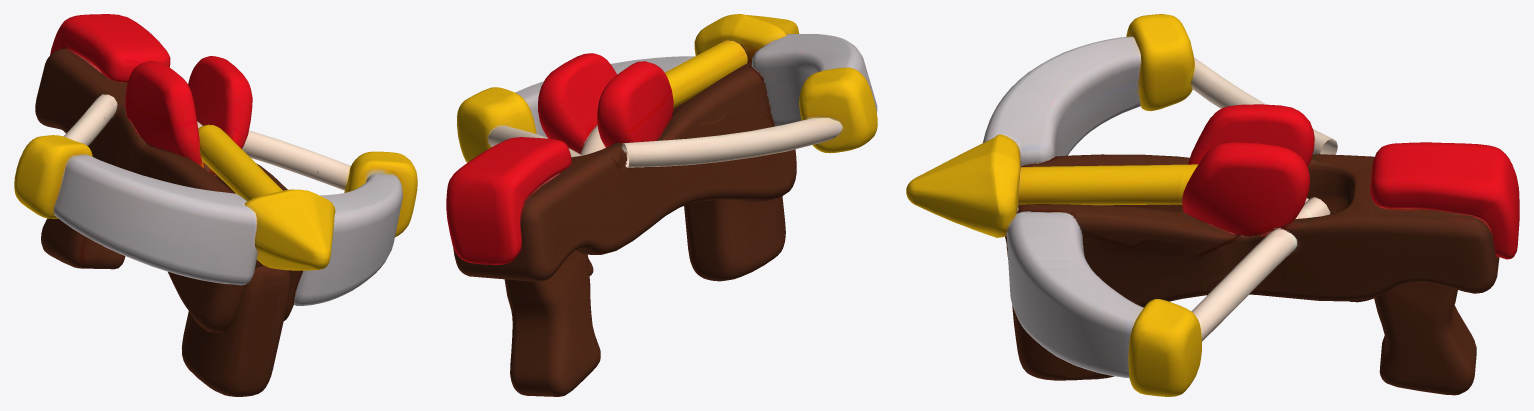
The model's file is weapon_crossbow.glb.
3 renders of one model, left to right at view 1: azimuth 30°, elevation 25°; view 2: azimuth 150°, elevation 25°; view 3: azimuth 270°, elevation 25°, orthographic. The views are drawn at different scales.
Parts seen in each view (by area): view 1: tripo_node_deb8cb60-73da-41bb-817b-d2ce3bfaeb05; view 2: tripo_node_deb8cb60-73da-41bb-817b-d2ce3bfaeb05; view 3: tripo_node_deb8cb60-73da-41bb-817b-d2ce3bfaeb05.
Part boxes in pixels (box(x1,y1,x2,y2)): tripo_node_deb8cb60-73da-41bb-817b-d2ce3bfaeb05: box(14, 14, 417, 396); tripo_node_deb8cb60-73da-41bb-817b-d2ce3bfaeb05: box(446, 14, 877, 396); tripo_node_deb8cb60-73da-41bb-817b-d2ce3bfaeb05: box(906, 14, 1519, 396).
Size of the model in its own units: 0.8267 by 0.5073 by 0.9995.
1 material, 1 textured.
